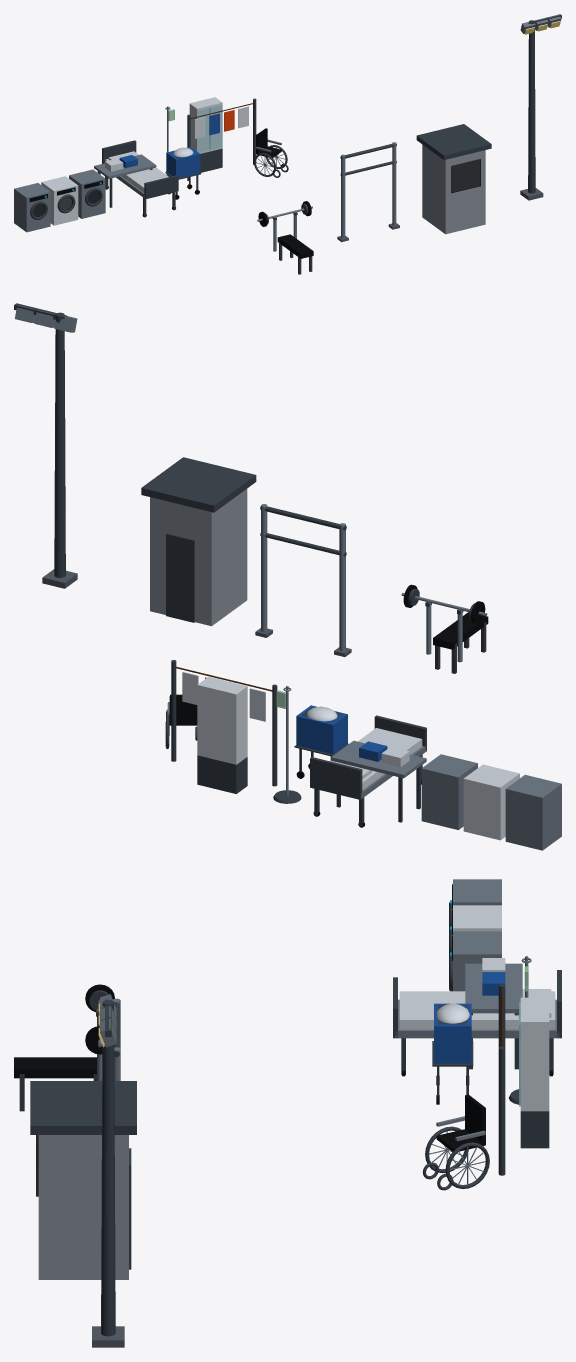
Rendered from prison-tier2.obj.
3 views of the same model, one above another, from view 1: azimuth 30°, elevation 25°; view 2: azimuth 150°, elevation 25°; view 3: azimuth 270°, elevation 25° (orthographic). The views are drawn at different scales.
Parts seen in each view (by area): view 1: booth_body, washer_body, booth_roof, cabinet_body, light_tower_pole, hanging_cloth, booth_window, pullup_post, cart_bin, cabinet_glass, bed_footboard, folding_table_top (+9 smaller); view 2: washer_body, booth_body, cabinet_body, booth_roof, light_tower_pole, booth_door, pullup_post, cart_bin, bed_headboard, cabinet_stand, folding_table_top, line_post (+7 smaller); view 3: booth_body, booth_roof, washer_body, light_tower_pole, cabinet_body, bed_mattress, folding_table_top, bench_pad, cart_bin, line_post, cabinet_stand, wheelchair_wheel (+6 smaller).
Boxes of the visible parts, <box> form: booth_body: <box>422,144,485,234</box>; washer_body: <box>14,169,105,232</box>; booth_roof: <box>416,124,491,159</box>; cabinet_body: <box>189,97,222,153</box>; light_tower_pole: <box>528,20,535,193</box>; hanging_cloth: <box>194,106,248,138</box>; booth_window: <box>451,159,480,193</box>; pullup_post: <box>341,142,396,238</box>; cart_bin: <box>166,147,200,177</box>; cabinet_glass: <box>197,104,222,152</box>; bed_footboard: <box>144,175,178,199</box>; folding_table_top: <box>94,154,156,178</box>; washer_body: <box>421,754,561,850</box>; booth_body: <box>150,489,247,626</box>; cabinet_body: <box>197,676,247,764</box>; booth_roof: <box>141,457,256,512</box>; light_tower_pole: <box>54,312,65,577</box>; booth_door: <box>166,533,194,622</box>; pullup_post: <box>261,504,345,651</box>; cart_bin: <box>296,705,347,754</box>; bed_headboard: <box>310,757,362,799</box>; cabinet_stand: <box>197,755,247,793</box>; folding_table_top: <box>331,740,426,778</box>; line_post: <box>171,660,277,786</box>; booth_body: <box>38,1135,128,1279</box>; booth_roof: <box>30,1081,136,1134</box>; washer_body: <box>453,879,501,991</box>; light_tower_pole: <box>101,1000,115,1336</box>; cabinet_body: <box>520,997,549,1111</box>; bed_mattress: <box>399,991,555,1029</box>; folding_table_top: <box>465,963,522,1013</box>; bench_pad: <box>14,1057,96,1078</box>; cart_bin: <box>434,1003,471,1063</box>; line_post: <box>498,984,505,1175</box>; cabinet_stand: <box>520,1111,549,1148</box>; wheelchair_wheel: <box>425,1126,489,1188</box>.
Size of the model in its own units: 12.18 by 4.58 by 6.68.
